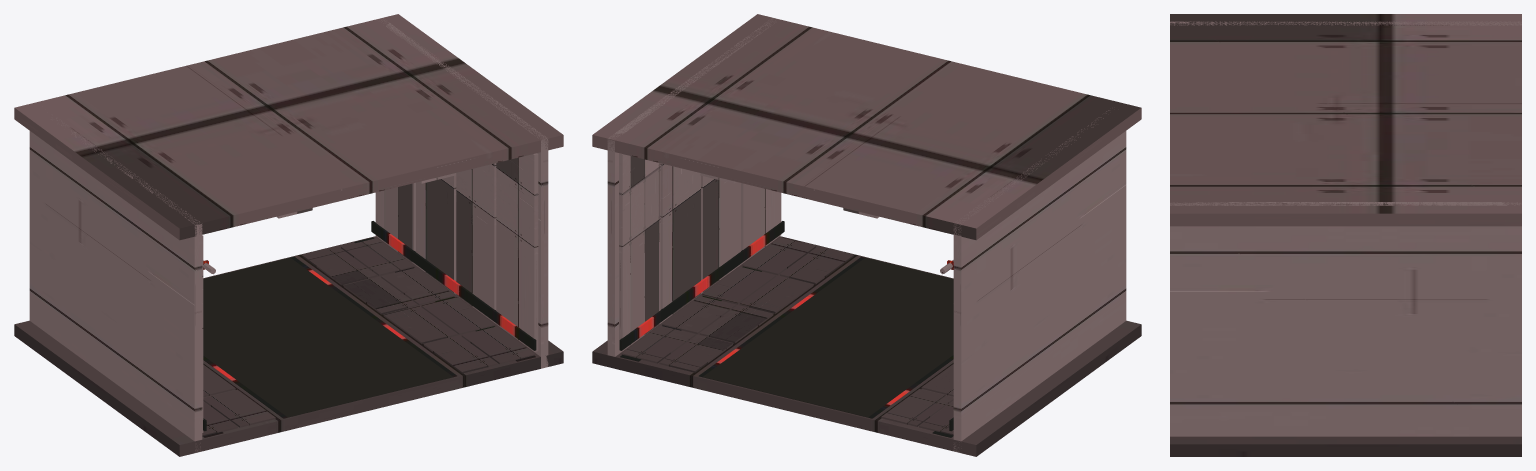
Rendered from hangar_koridor_kara.glb.
3 views of the same model, side by side, from view 1: azimuth 30°, elevation 25°; view 2: azimuth 150°, elevation 25°; view 3: azimuth 270°, elevation 25° (orthographic). The views are drawn at different scales.
Visible parts, largest first — view 1: LOD0_koridor; view 2: LOD0_koridor; view 3: LOD0_koridor.
Boxes of the visible parts, x1,y1,x2,y2 form: LOD0_koridor: (14,14,563,456); LOD0_koridor: (592,14,1141,456); LOD0_koridor: (1170,14,1521,456).
Size of the model in its own units: 10.2 by 5.8 by 7.6.
1 material, 1 textured.
